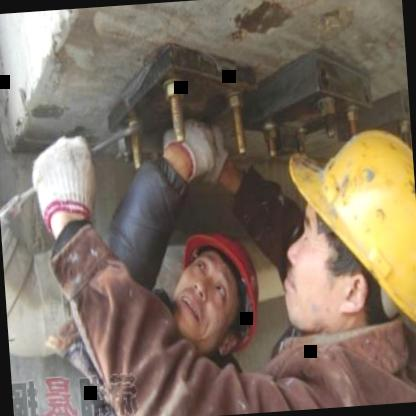helmet: (269, 115, 416, 364), (163, 219, 264, 356)
